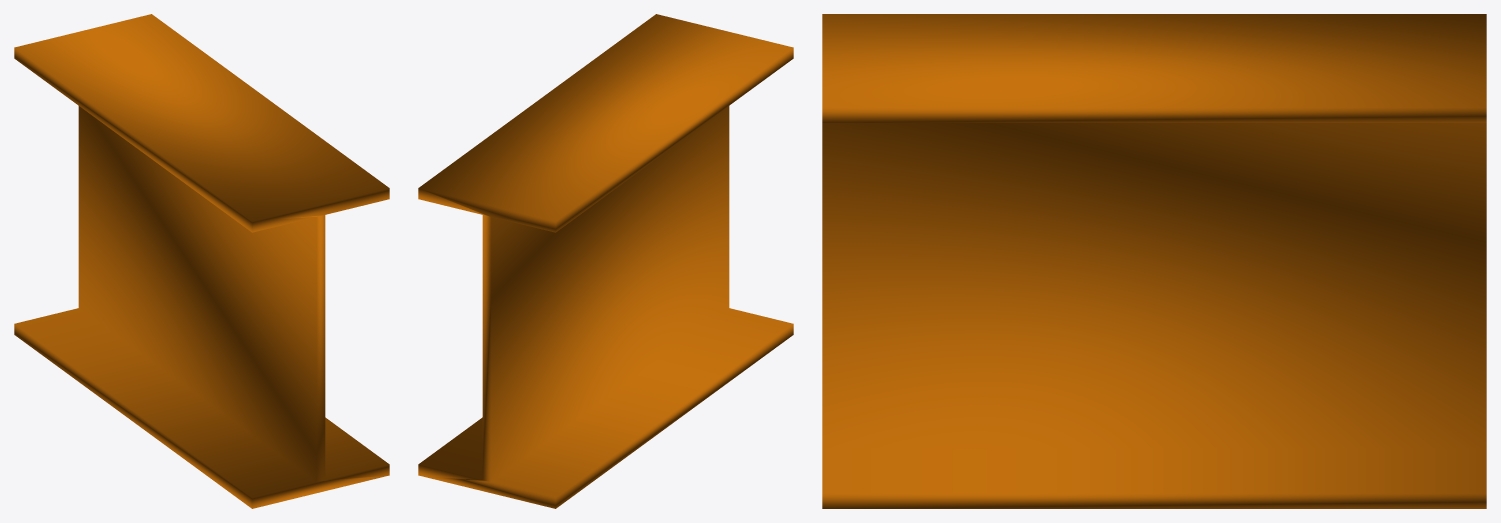
File: i-beam.glb
3 renders of one model, left to right at view 1: azimuth 30°, elevation 25°; view 2: azimuth 150°, elevation 25°; view 3: azimuth 270°, elevation 25°, orthographic. The views are drawn at different scales.
Visible parts, largest first — view 1: IBeam; view 2: IBeam; view 3: IBeam.
Part boxes in pixels (x1,y1,x2,y2): IBeam: [14, 14, 389, 508]; IBeam: [418, 14, 793, 508]; IBeam: [822, 14, 1486, 508].
Bounding box in the file's own units: 0.3333 × 0.6667 × 1.
